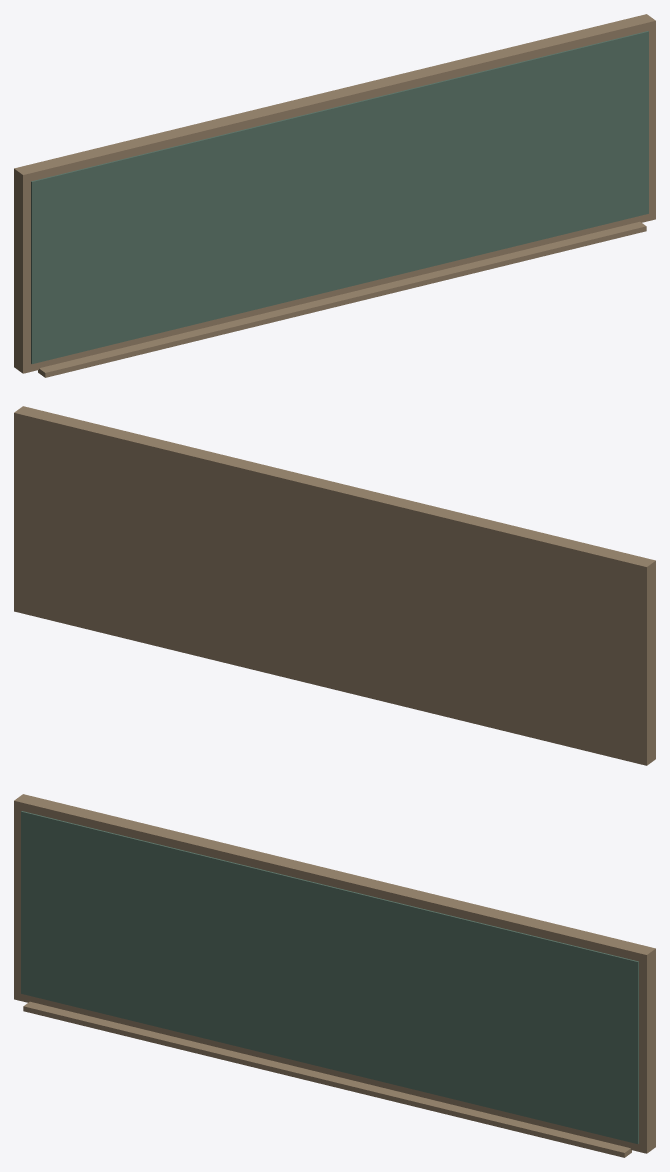
The model's file is 1775-Furniture-interiors-blackboard.glb.
The picture shows the model from 3 angles, top to bottom: view 1: azimuth 30°, elevation 25°; view 2: azimuth 150°, elevation 25°; view 3: azimuth 330°, elevation 25°; orthographic projection.
Parts seen in each view (by area): view 1: Furniture (interiors)/blackboard; view 2: Furniture (interiors)/blackboard; view 3: Furniture (interiors)/blackboard.
Boxes of the visible parts, x1,y1,x2,y2 form: Furniture (interiors)/blackboard: [14, 14, 655, 377]; Furniture (interiors)/blackboard: [14, 406, 655, 765]; Furniture (interiors)/blackboard: [14, 794, 655, 1157].
Size of the model in its own units: 4 by 1.22 by 0.17.
